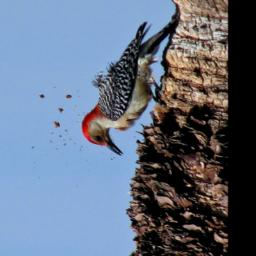Woodpecker: (80, 13, 182, 157)
